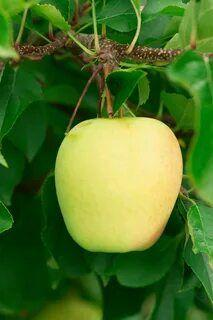Apple: (55, 116, 182, 252)
